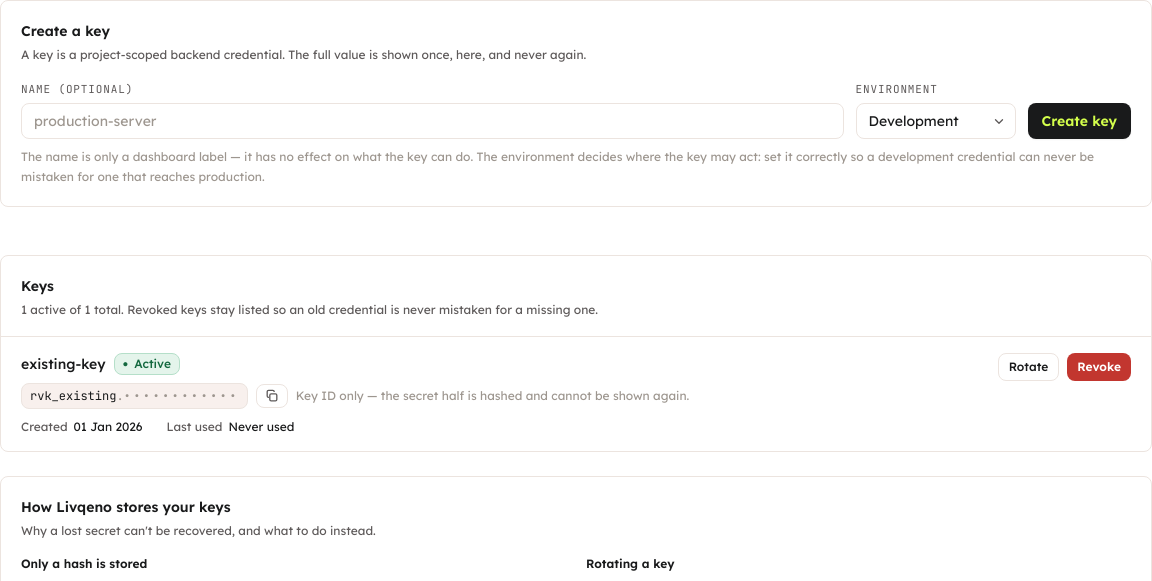
Test: ApiKeysManager › shows a toast and an inline error when revoking a key fails
Click the button "Revoke": (1099, 366) [1067, 352, 1131, 380]
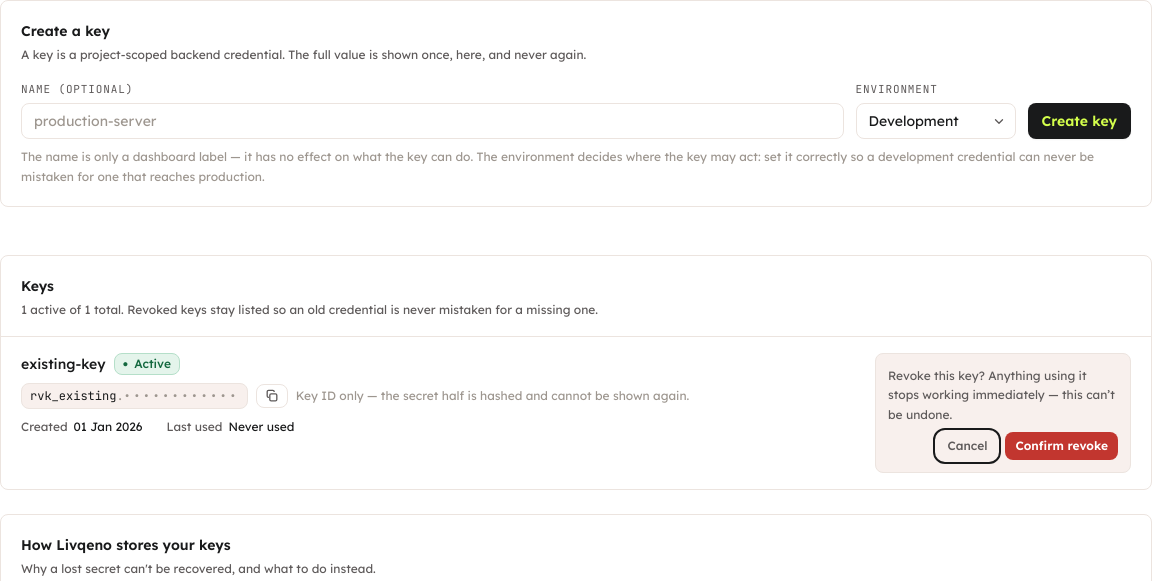
Click the button "Confirm revoke": (1062, 446) [1005, 432, 1118, 460]
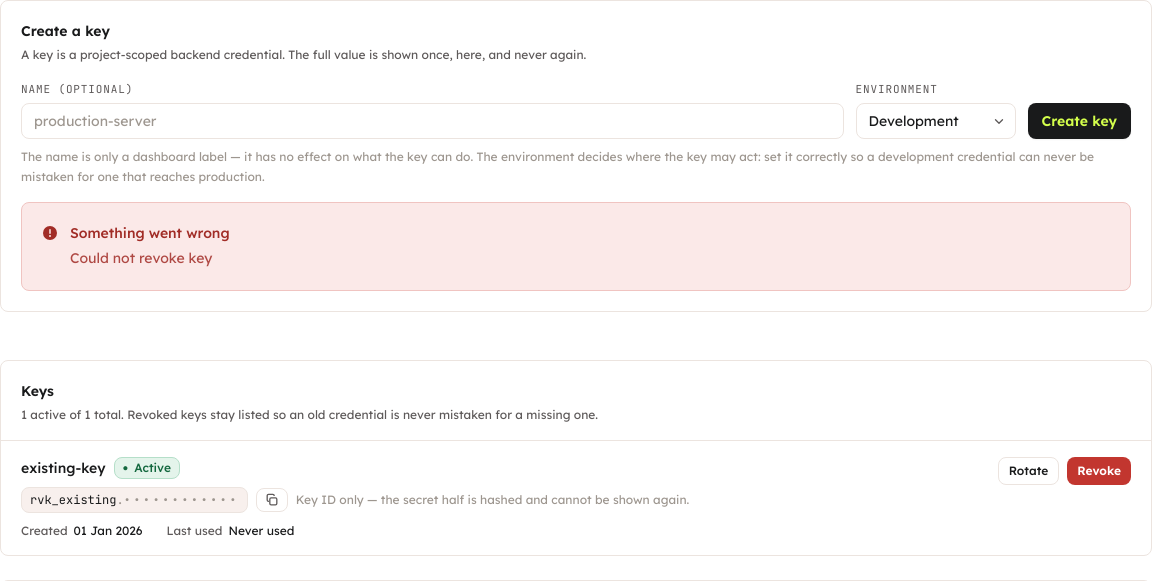
Check: the text "Active" is shown, box [134, 460, 171, 475]
Check: the text "Could not revoke key" is shown, box [70, 249, 212, 267]
